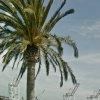Palm tree: (6, 2, 66, 100)
